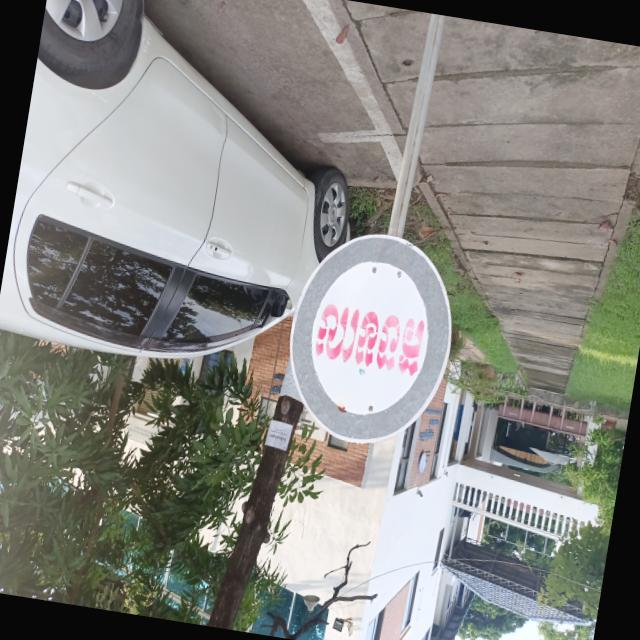Yolov11_80vkh: (309, 296, 433, 383)
